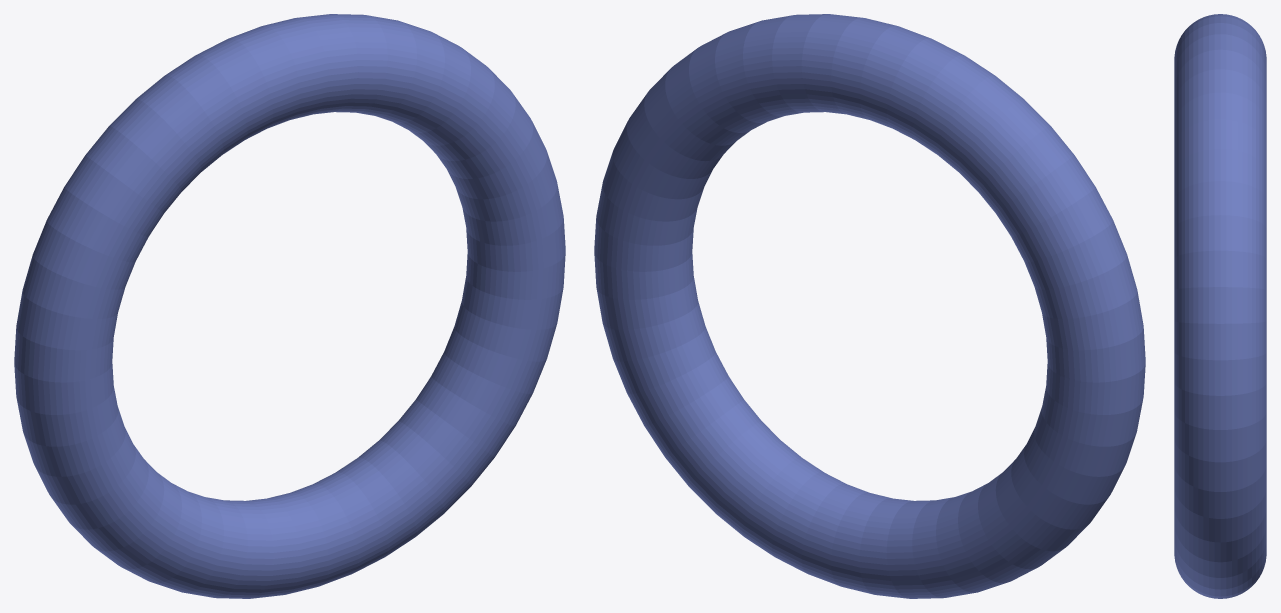
The picture shows the model from 3 angles, left to right: view 1: azimuth 30°, elevation 25°; view 2: azimuth 150°, elevation 25°; view 3: azimuth 270°, elevation 25°; orthographic projection. The views are drawn at different scales.
Visible parts, largest first — view 1: world; view 2: world; view 3: world.
Boxes of the visible parts, x1,y1,x2,y2 form: world: [14, 14, 565, 598]; world: [594, 14, 1145, 598]; world: [1174, 14, 1266, 598].
Size of the model in its own units: 12.67 by 12.64 by 2.
